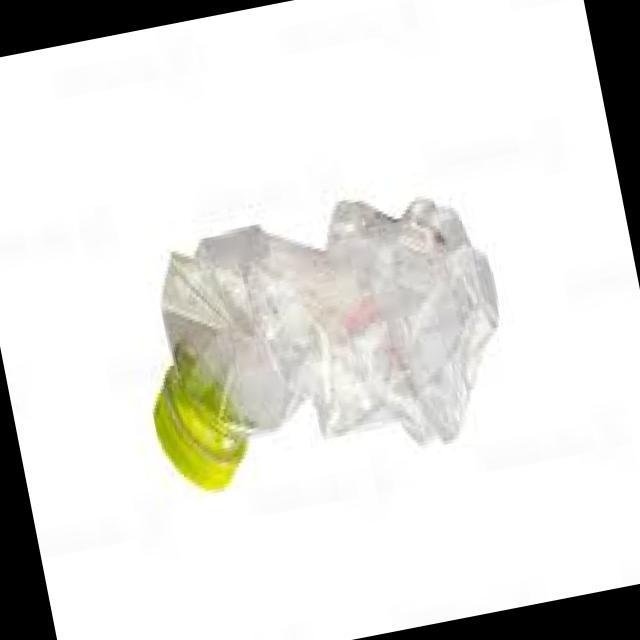defected: (114, 164, 536, 518)
